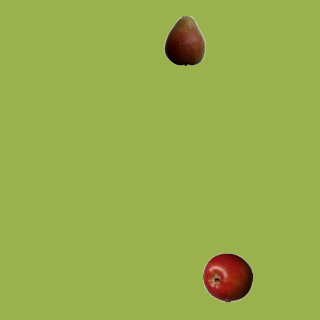Apple Braeburn: (202, 252, 252, 302)
Pear Forelle: (159, 15, 209, 65)
